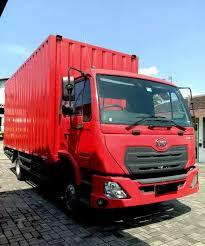truck: (44, 58, 205, 225)
